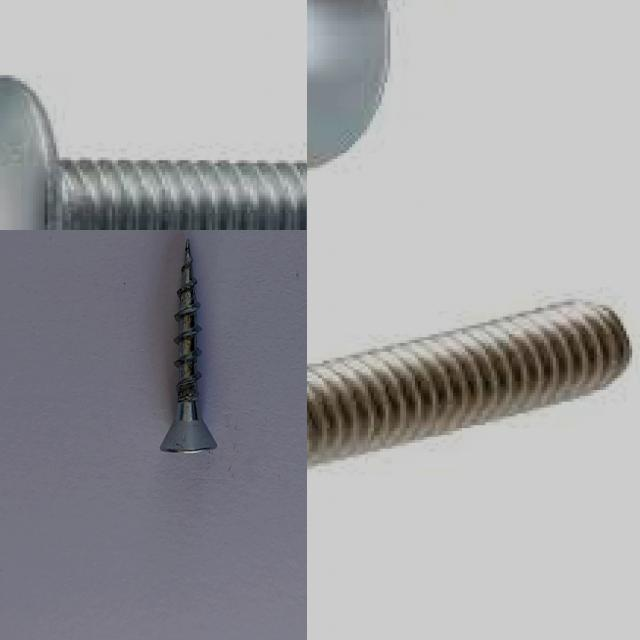Screw: (307, 296, 632, 471), (0, 76, 307, 230), (161, 238, 217, 452)
